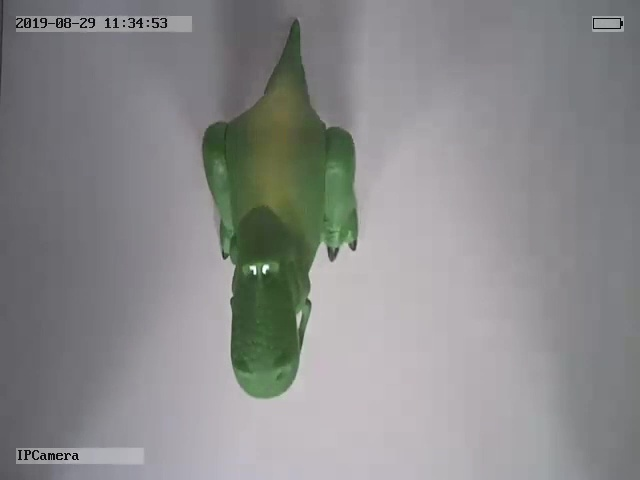rex: (201, 15, 361, 402)
